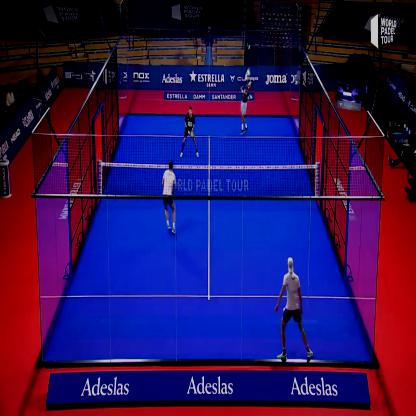ball: (247, 43, 253, 53)
